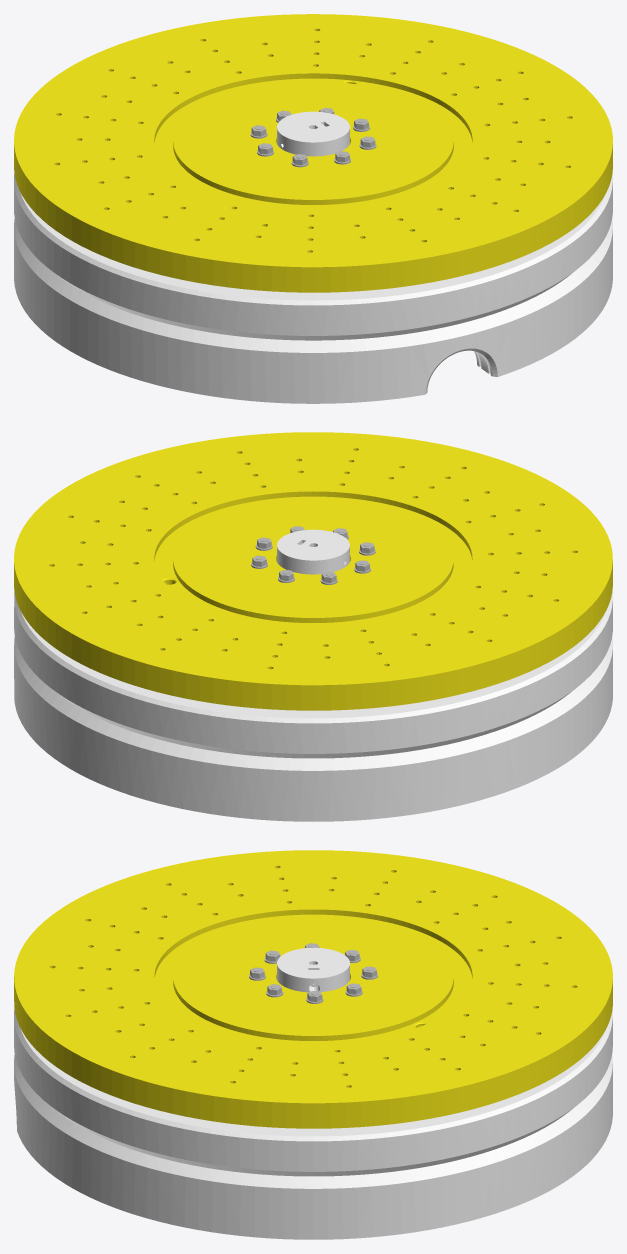
File: mainbody_assembly_asm.glb
The picture shows the model from 3 angles, top to bottom: view 1: azimuth 30°, elevation 25°; view 2: azimuth 150°, elevation 25°; view 3: azimuth 270°, elevation 25°; orthographic projection.
Parts seen in each view (by area): view 1: Node2, Node1, Node3; view 2: Node2, Node1, Node3; view 3: Node2, Node1, Node3.
Boxes of the visible parts, bbox=[...] form: Node2: bbox=[14, 14, 612, 292]; Node1: bbox=[14, 111, 612, 403]; Node3: bbox=[250, 108, 376, 167]; Node2: bbox=[14, 432, 612, 710]; Node1: bbox=[14, 529, 612, 821]; Node3: bbox=[251, 526, 375, 584]; Node2: bbox=[14, 850, 612, 1128]; Node1: bbox=[14, 947, 612, 1239]; Node3: bbox=[249, 943, 377, 1003].
Size of the model in its own units: 320 by 88.5 by 320.
